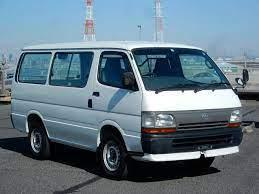van: (11, 42, 245, 174)
